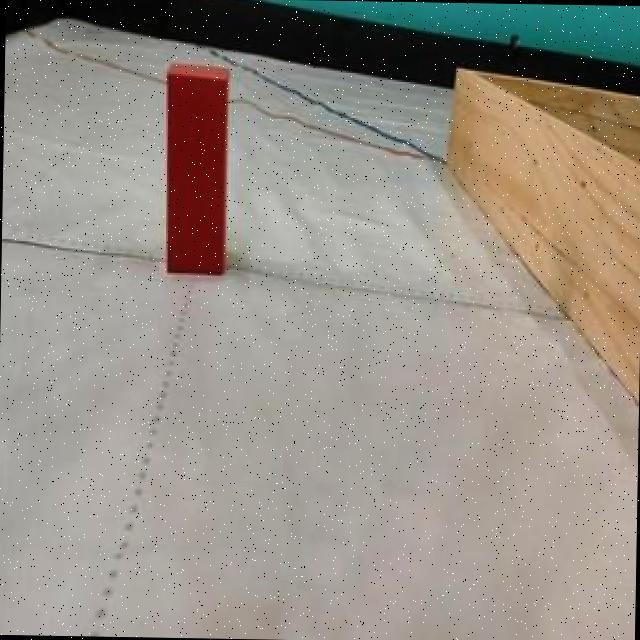redbox: (163, 59, 230, 274)
